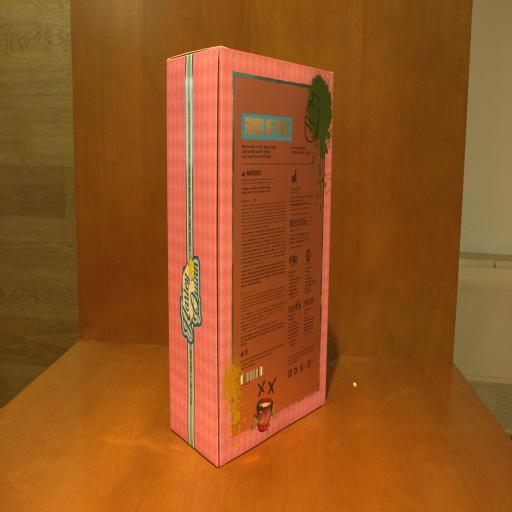Harley: (167, 44, 335, 465)
